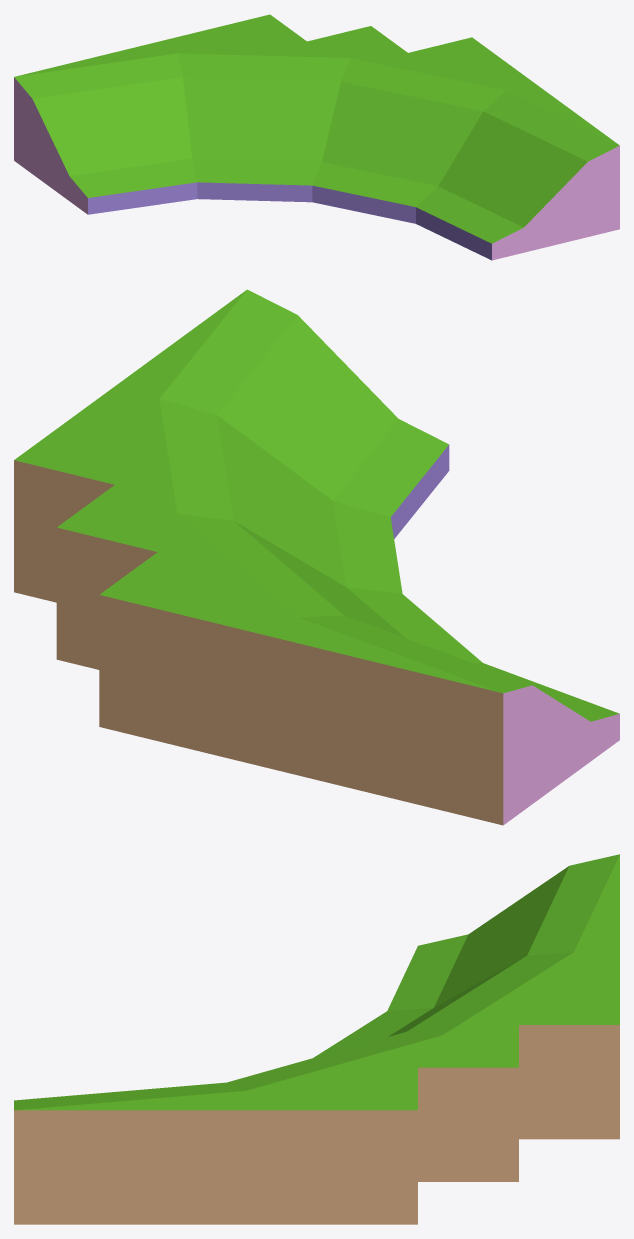
File: Grass_Hill_Sharp_Curve_Inner_6x6.glb
3 views of the same model, one above another, from view 1: azimuth 30°, elevation 25°; view 2: azimuth 150°, elevation 25°; view 3: azimuth 270°, elevation 25° (orthographic). The views are drawn at different scales.
Visible parts, largest first — view 1: Grass_Hill_Sharp_Curve_Inner_6x6; view 2: Grass_Hill_Sharp_Curve_Inner_6x6; view 3: Grass_Hill_Sharp_Curve_Inner_6x6.
Boxes of the visible parts, x1,y1,x2,y2 form: Grass_Hill_Sharp_Curve_Inner_6x6: (14, 14, 619, 260); Grass_Hill_Sharp_Curve_Inner_6x6: (14, 289, 619, 825); Grass_Hill_Sharp_Curve_Inner_6x6: (14, 854, 619, 1224).
Size of the model in its own units: 600 by 125 by 600.
